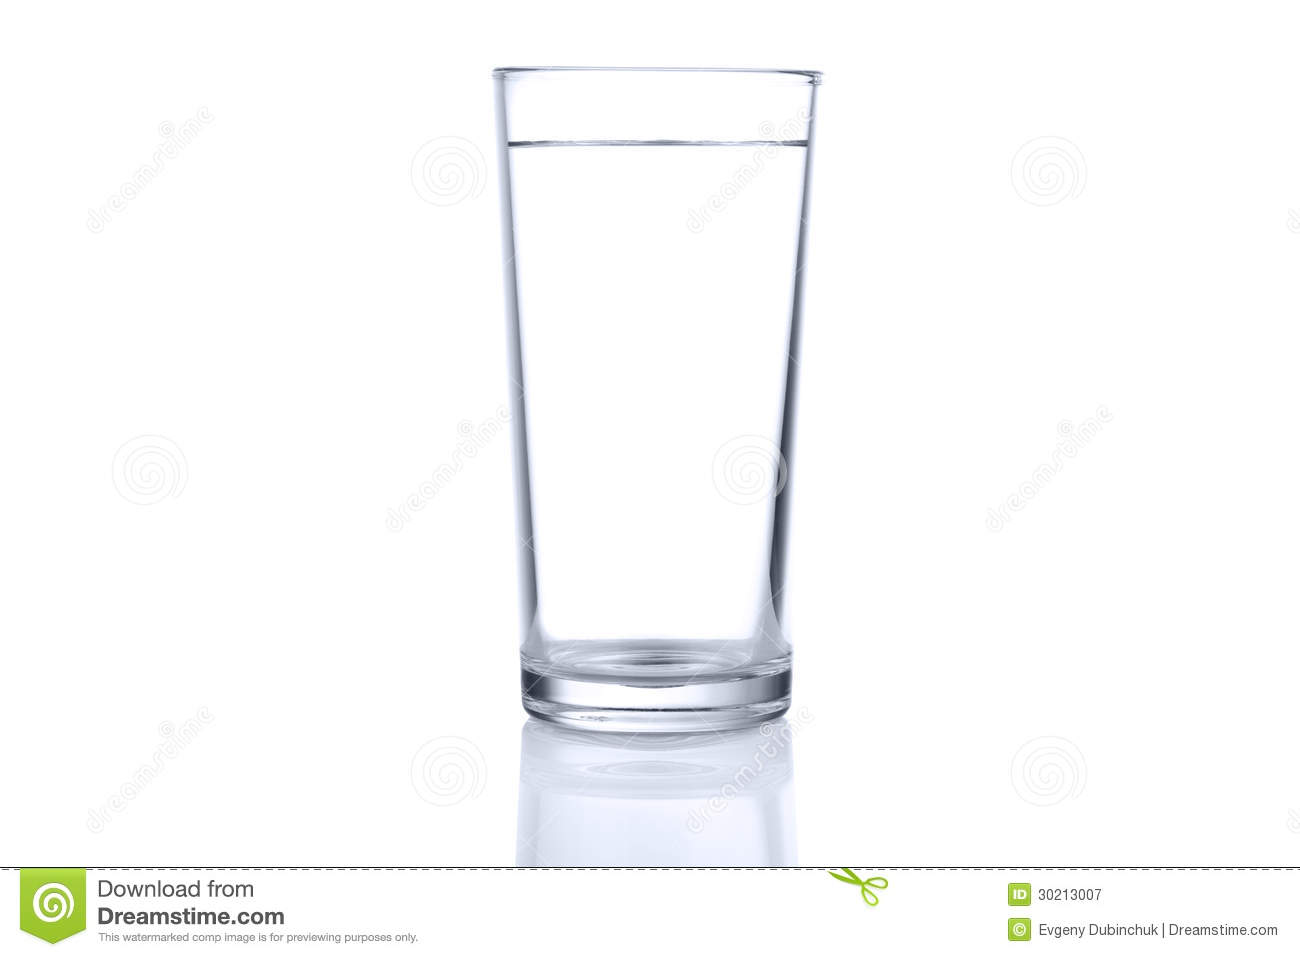glass of water: (490, 81, 823, 748)
